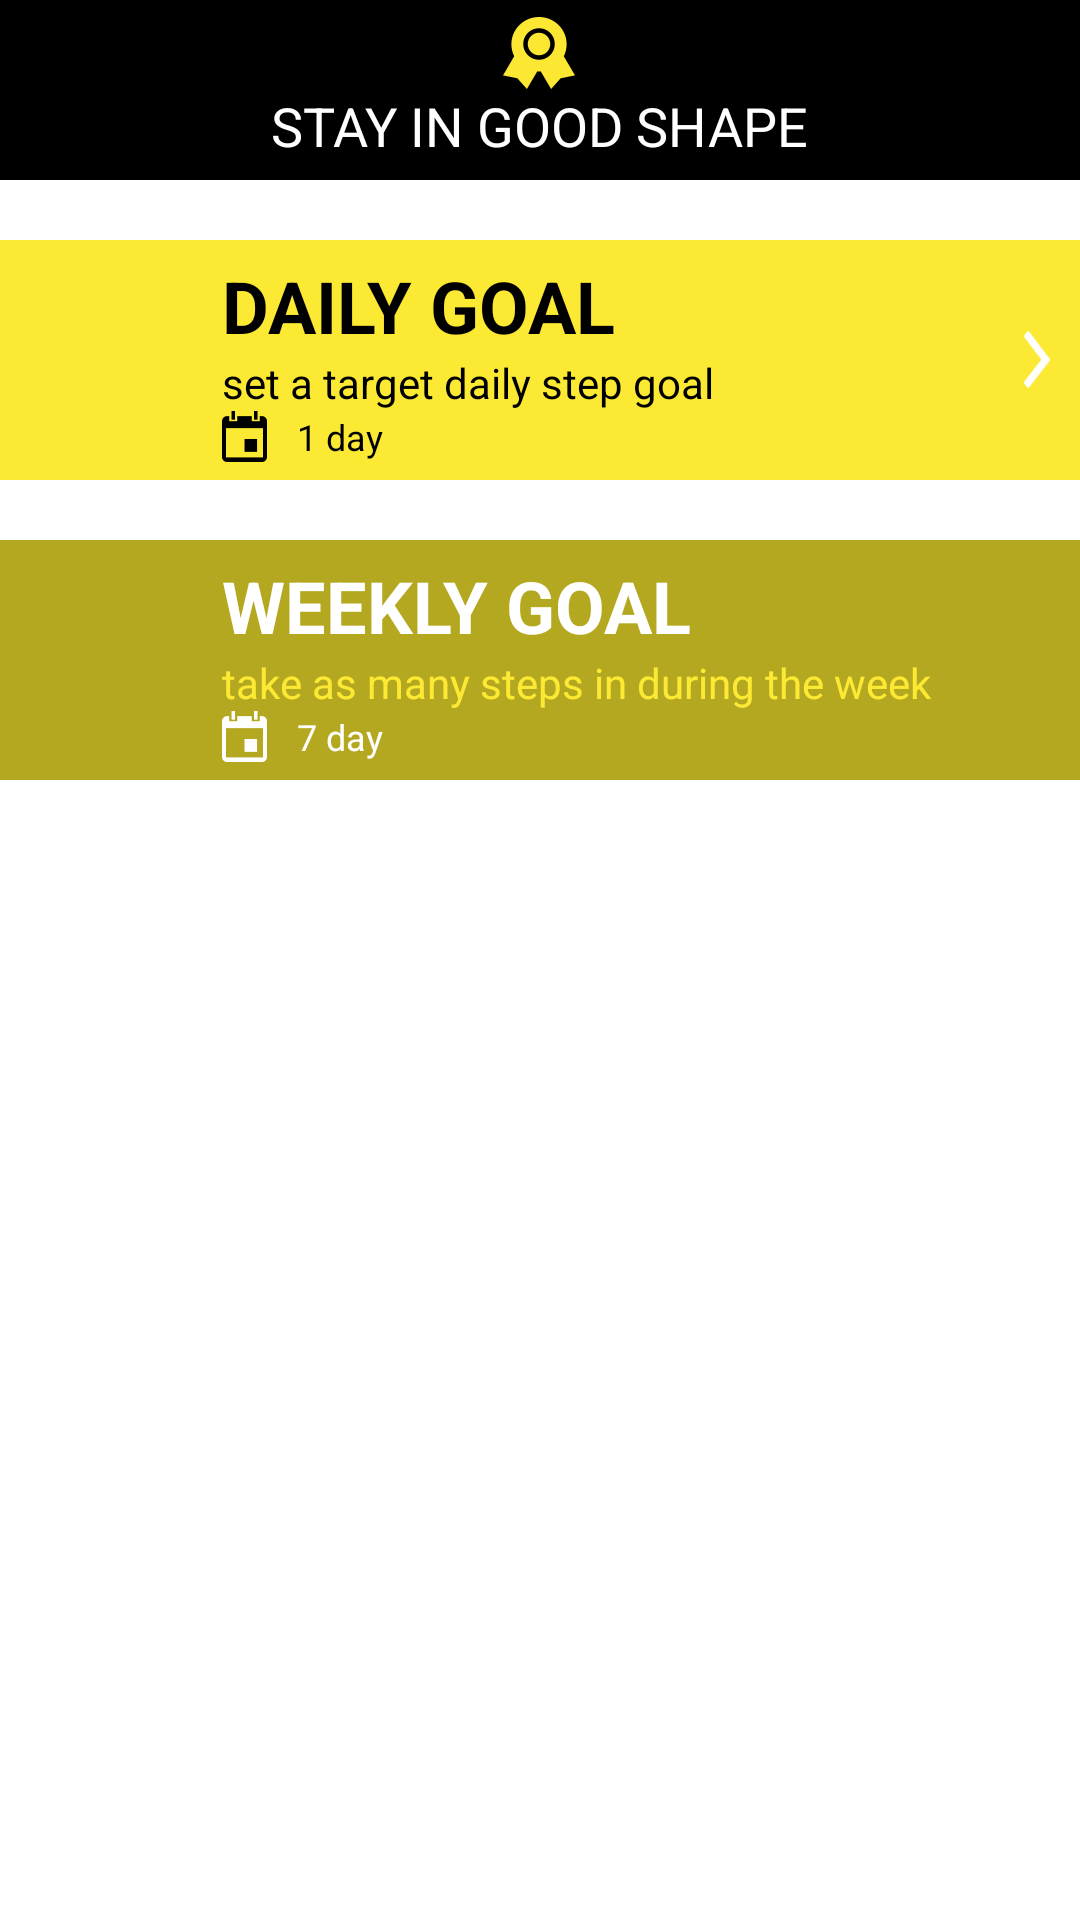

Screen size 1080w x 1920h. Icon name, then its box in pixels as [x1, y1, x2, y2]:
arrow right: [1024, 331, 1050, 388]
